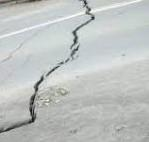crack: (13, 0, 126, 120)
